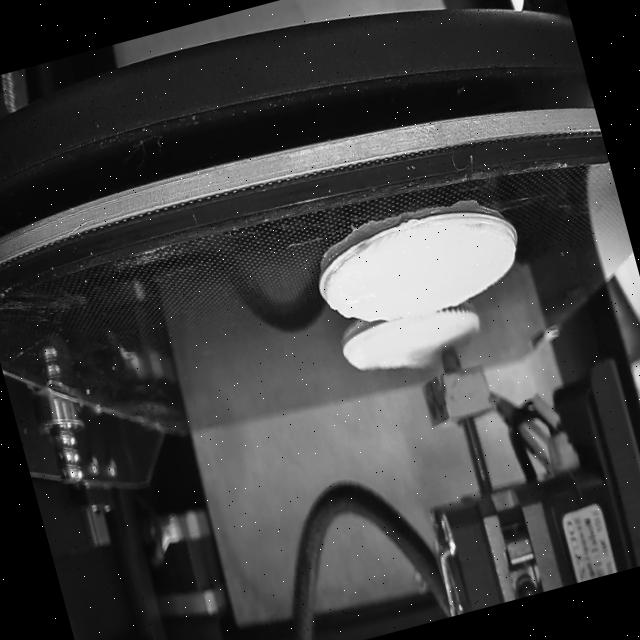over_extrusion: (316, 268, 339, 306)
